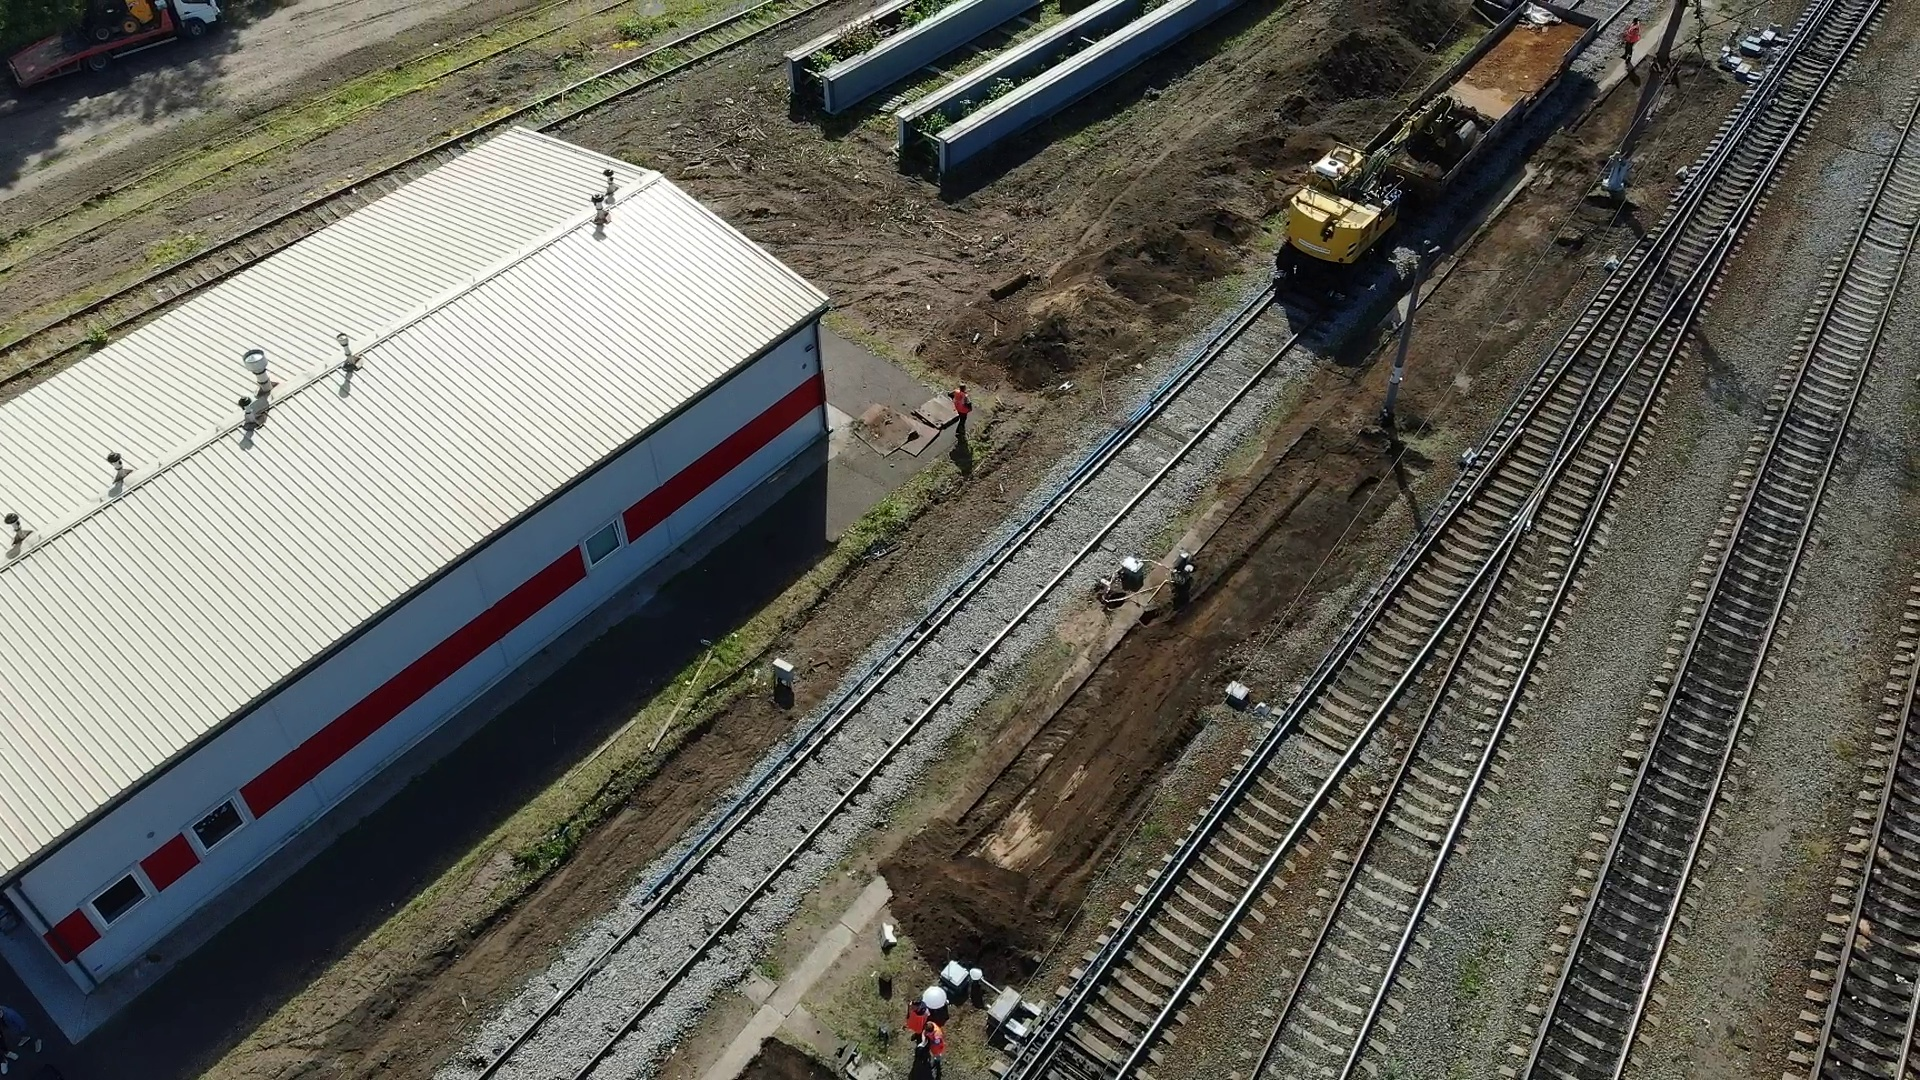kjtv: (1274, 145, 1402, 294)
